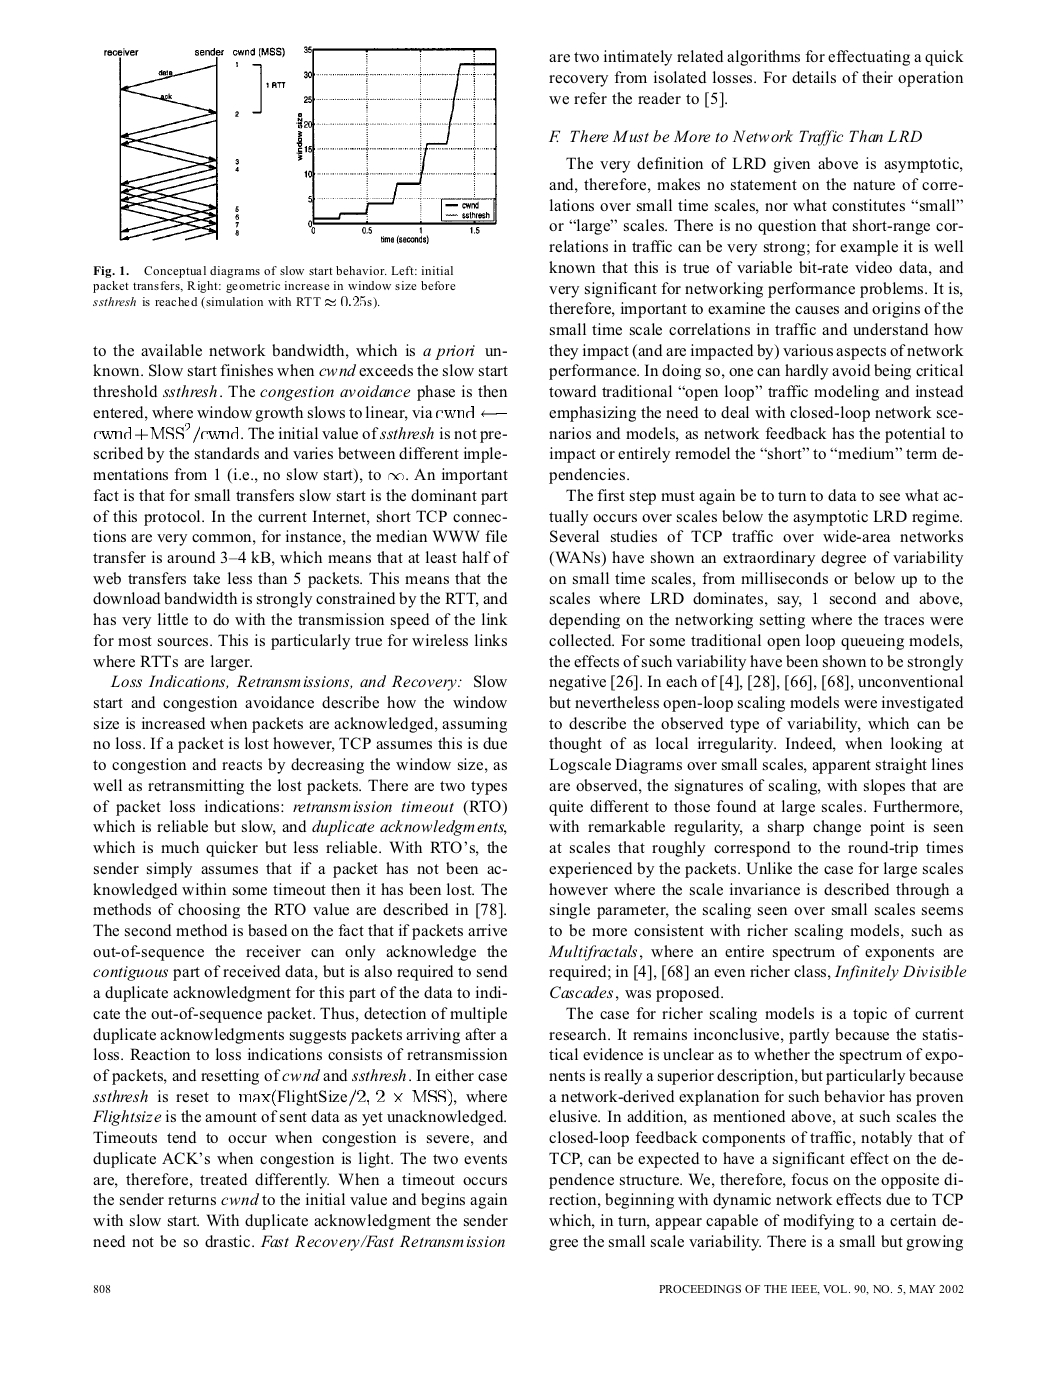figure: (296, 46, 496, 243), (104, 47, 285, 240)
